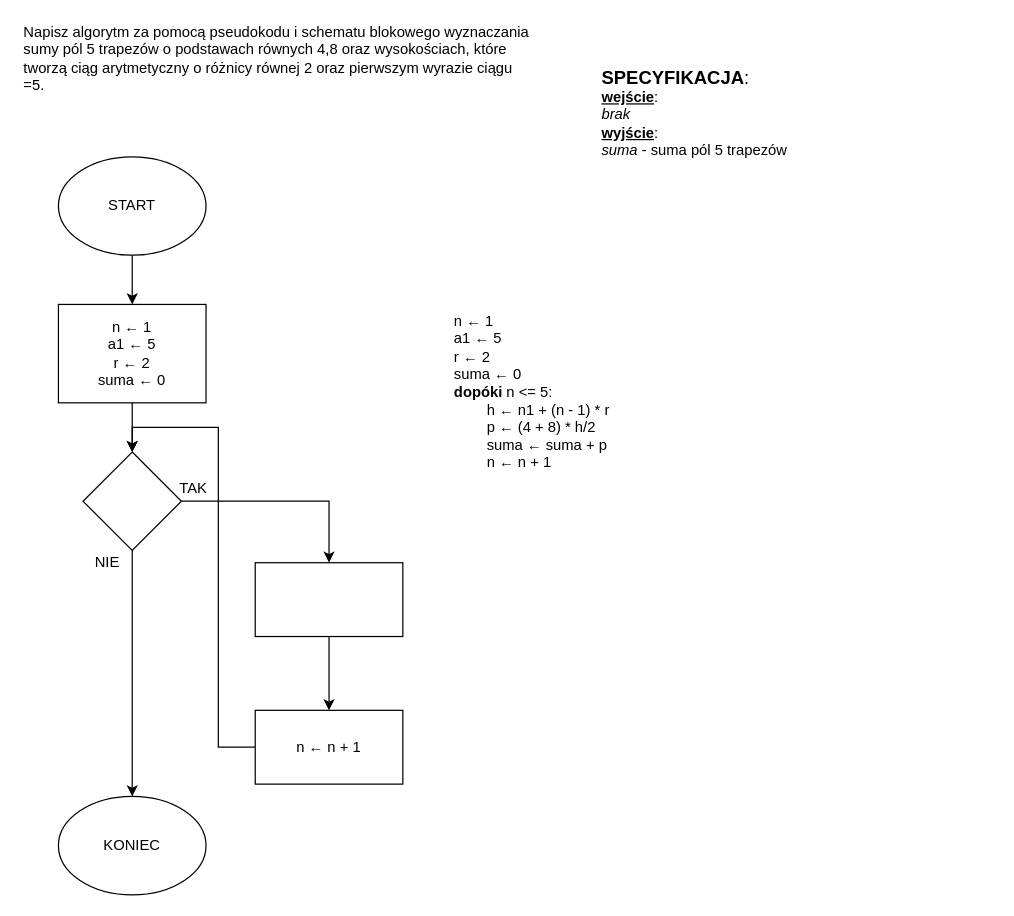
This 1014x916 diagram has some shape labels left out. The centre of each missing label's shape, as x and y in pixels:
h ← n1 + (n - 1) * r p ← (4 + 8) * h / 2 suma ← suma + p: point (328, 599)
n <= 5: point (131, 500)
